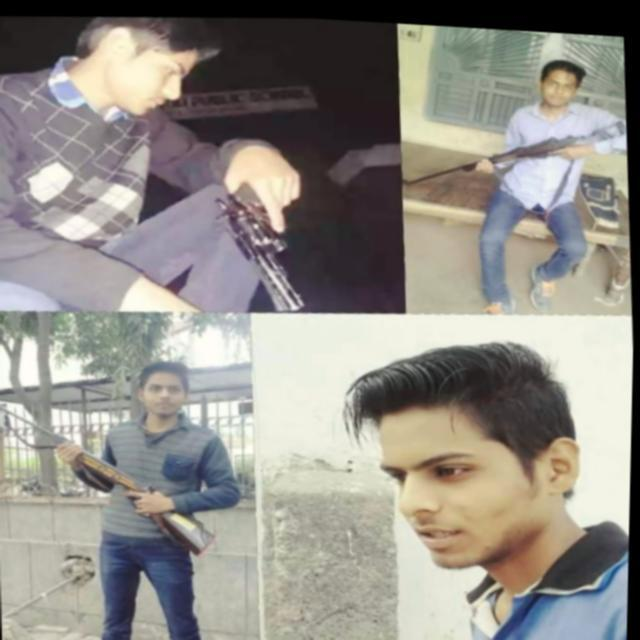weapon: (204, 152, 319, 316)
